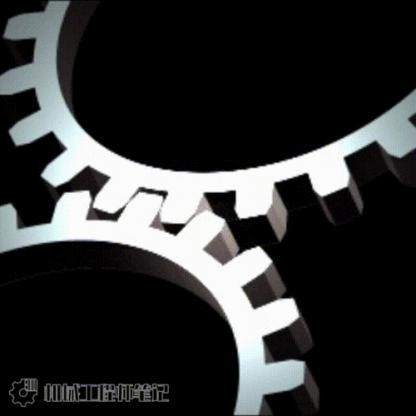FOD: (3, 0, 415, 237), (0, 182, 320, 416)
